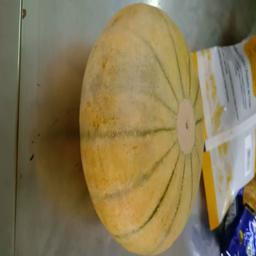Melon Semifresh: (81, 4, 204, 256)
